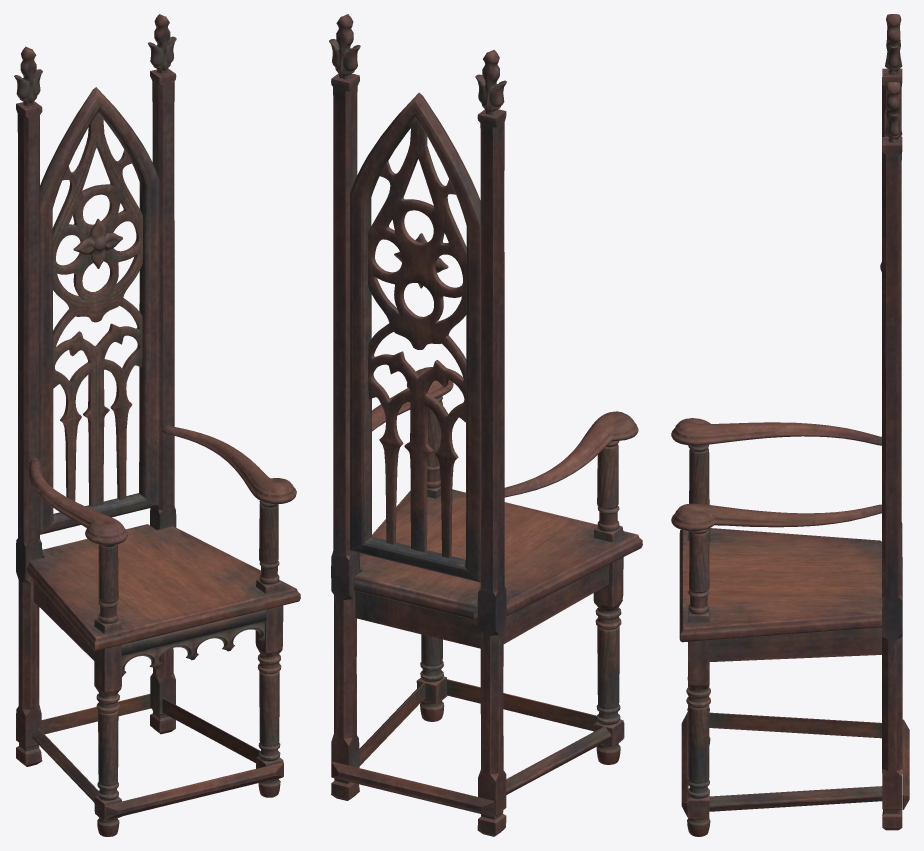
File: WoodenChair_01.glb
3 views of the same model, side by side, from view 1: azimuth 30°, elevation 25°; view 2: azimuth 150°, elevation 25°; view 3: azimuth 270°, elevation 25° (orthographic). The views are drawn at different scales.
Visible parts, largest first — view 1: WoodenChair_01; view 2: WoodenChair_01; view 3: WoodenChair_01.
Boxes of the visible parts, x1,y1,x2,y2 form: WoodenChair_01: (14, 14, 300, 836); WoodenChair_01: (329, 14, 642, 836); WoodenChair_01: (671, 14, 909, 836).
Size of the model in its own units: 0.6881 by 2.27 by 0.6584.
Materials: 1 (1 with a texture image).
